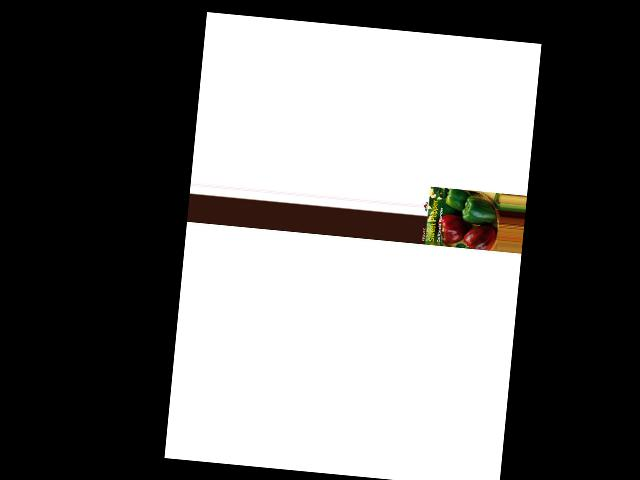bell_pepper: (442, 186, 475, 209)
